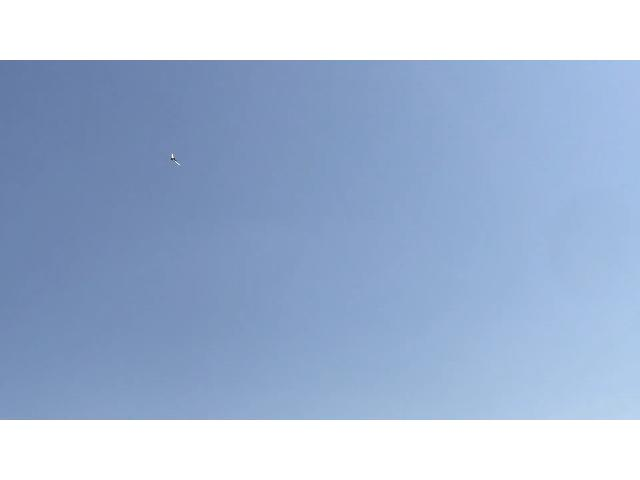Anti-Drone: (156, 139, 194, 177)
